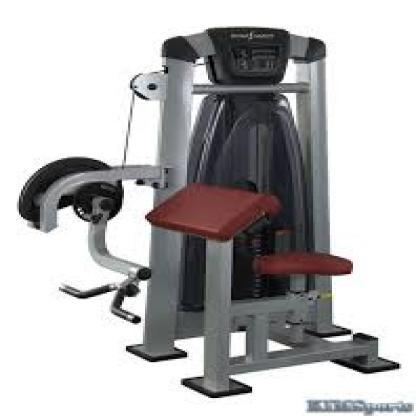arm curl machine: (18, 26, 402, 399)
